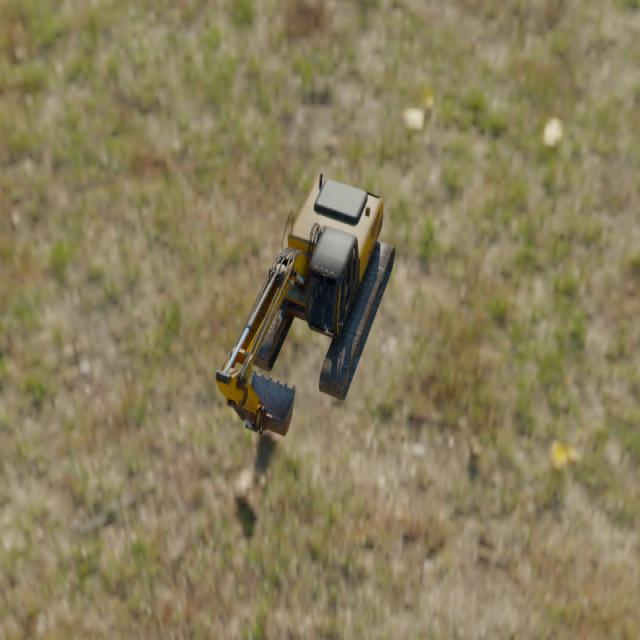excavator: (215, 172, 395, 436)
